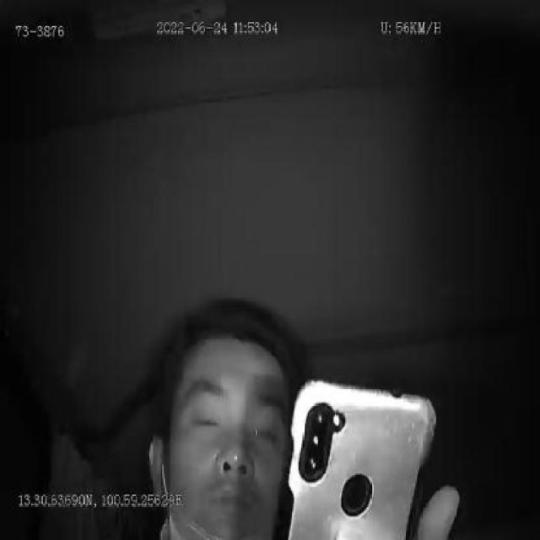phone: (278, 374, 439, 540)
